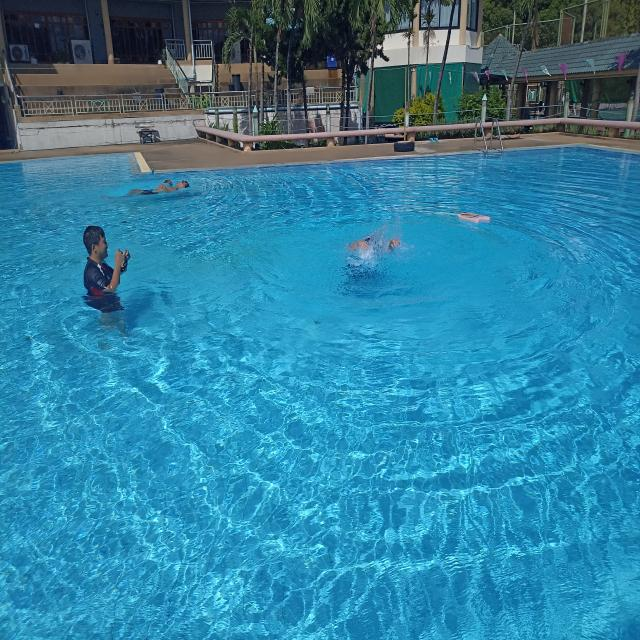Drowning: (315, 204, 414, 306)
Swimming: (80, 216, 133, 312), (122, 170, 208, 206)
